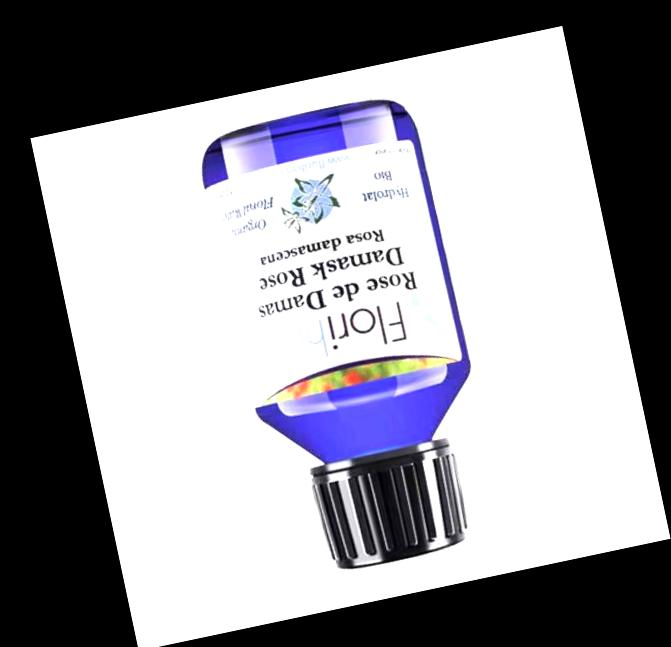cosmetic: (192, 92, 510, 586)
